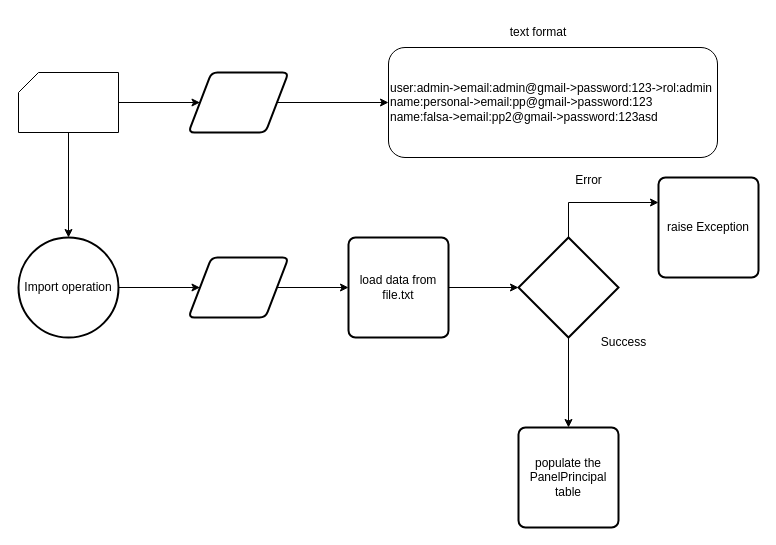
This 776x545 diagram has some shape labels left out. Here are the shapes that lost their labels. From the top down, the box of each, then its label:
(18, 72, 118, 132): from file system
(187, 71, 289, 133): file.txt
(187, 256, 289, 318): click button
